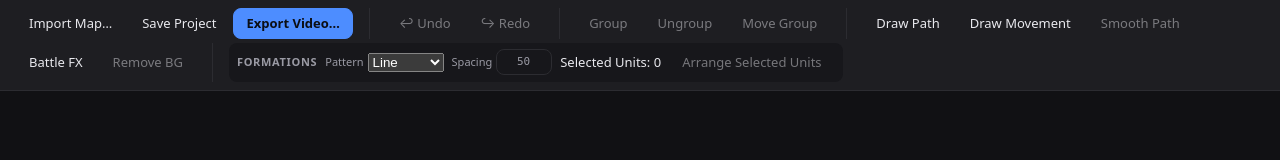
Scenario: CanvasActionBar (relocated Toolbar actions) › battle FX (collision-triggered bursts) › reports no clashes when there are no opposing units
Step 1. Click the button with test id "battle-fx-btn" → (56, 62), box [16,47,96,78]
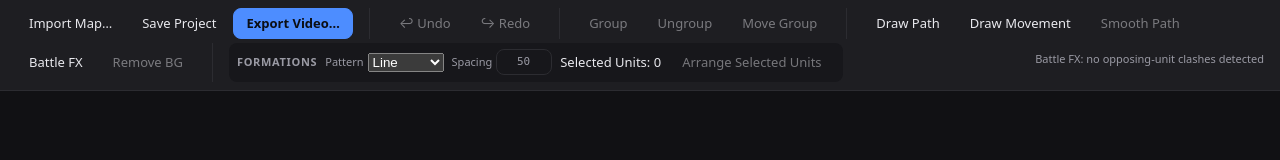
Expected: the text with test id "toolbar-status" reads "Battle FX: no opposing-unit clashes detected", [1035,51,1264,66]
